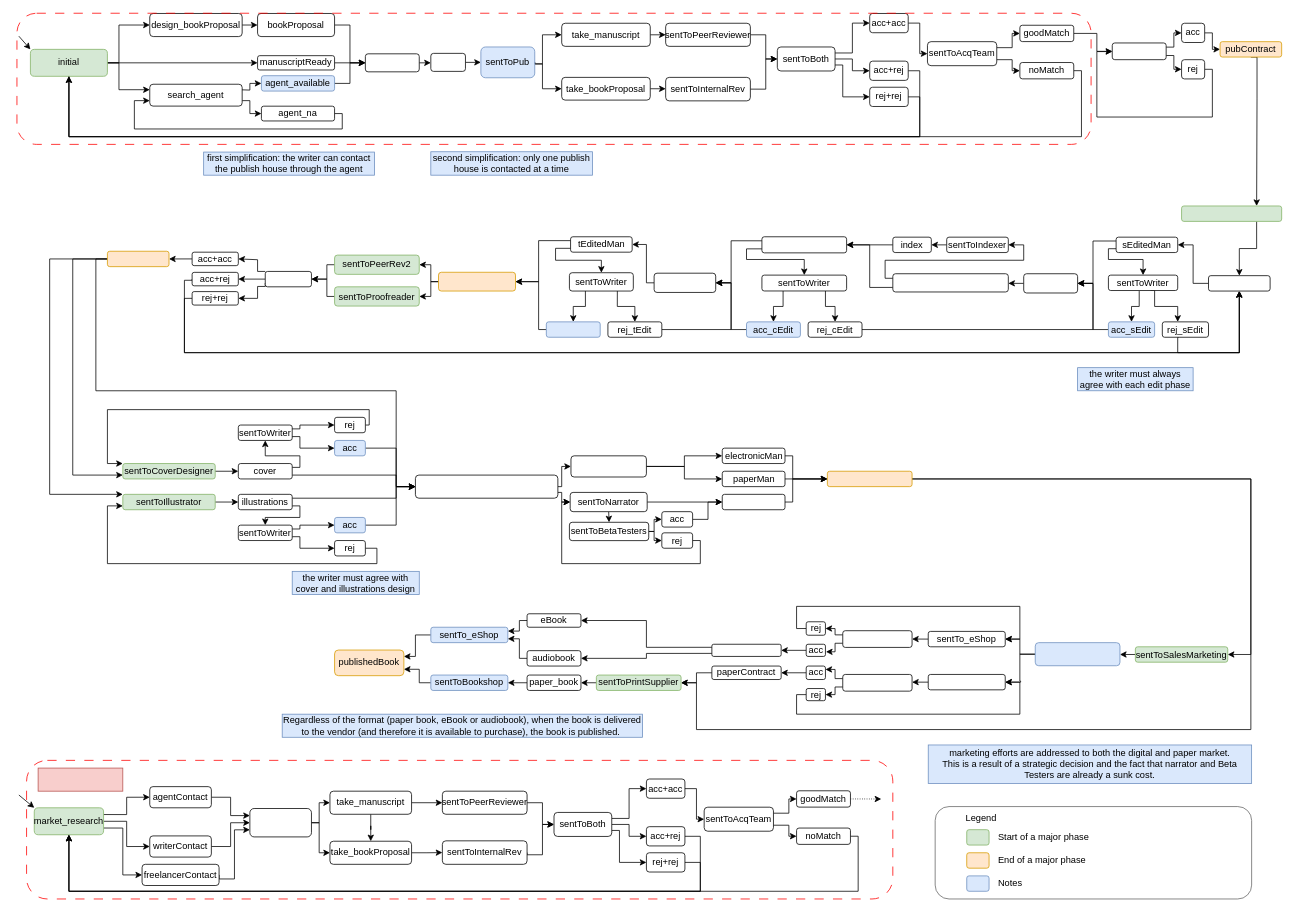
This 1296x913 diagram has some shape labels left out. The shapes that lost their labels are listed below. From the top down, each one's box as (x1, y1, x2, y2) in pixels, then its label:
(365, 53, 419, 72): sentToAgent
(430, 53, 465, 71): check
(1111, 42, 1166, 60): negotiation
(1181, 205, 1282, 221): manuscript_sentToEditor
(107, 250, 169, 267): proofreadMan
(761, 236, 847, 253): index+cEditedMan
(264, 271, 311, 287): sentBoth
(438, 272, 516, 291): editedManuscript
(653, 272, 716, 292): technicalEdit
(892, 273, 1008, 292): cEditedMan
(1023, 273, 1078, 293): contentEdit
(1208, 275, 1270, 291): structuralEdit
(546, 321, 600, 337): acc_tEdit
(415, 474, 558, 498): cover+illustrations+proofreadMan
(570, 455, 646, 477): sentToTypesetter
(827, 470, 912, 487): digital+paper_Man
(721, 494, 785, 510): recordedMan
(711, 643, 781, 656): digitalContract
(842, 630, 912, 647): book_eProposal
(1034, 642, 1120, 666): promotionalActivites
(842, 674, 912, 691): book_bProposal
(927, 674, 1005, 690): sentTo_Bookshop
(37, 767, 123, 791): alternative design
(249, 808, 311, 837): request
